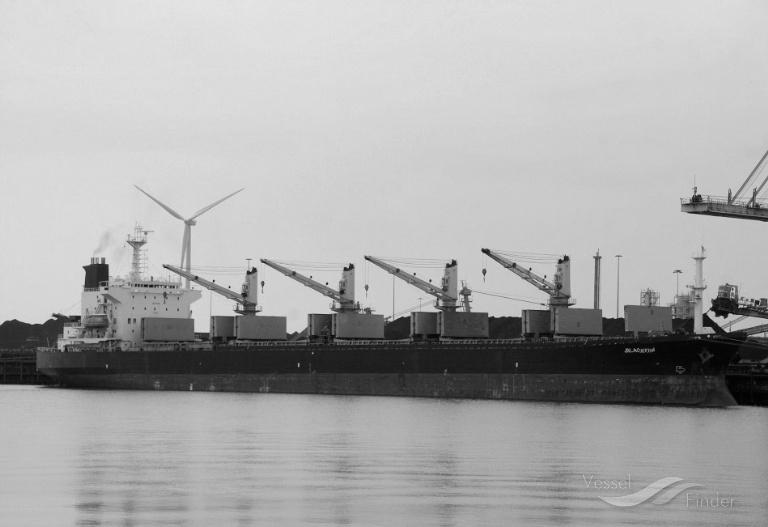OCR: (623, 341, 654, 359)
